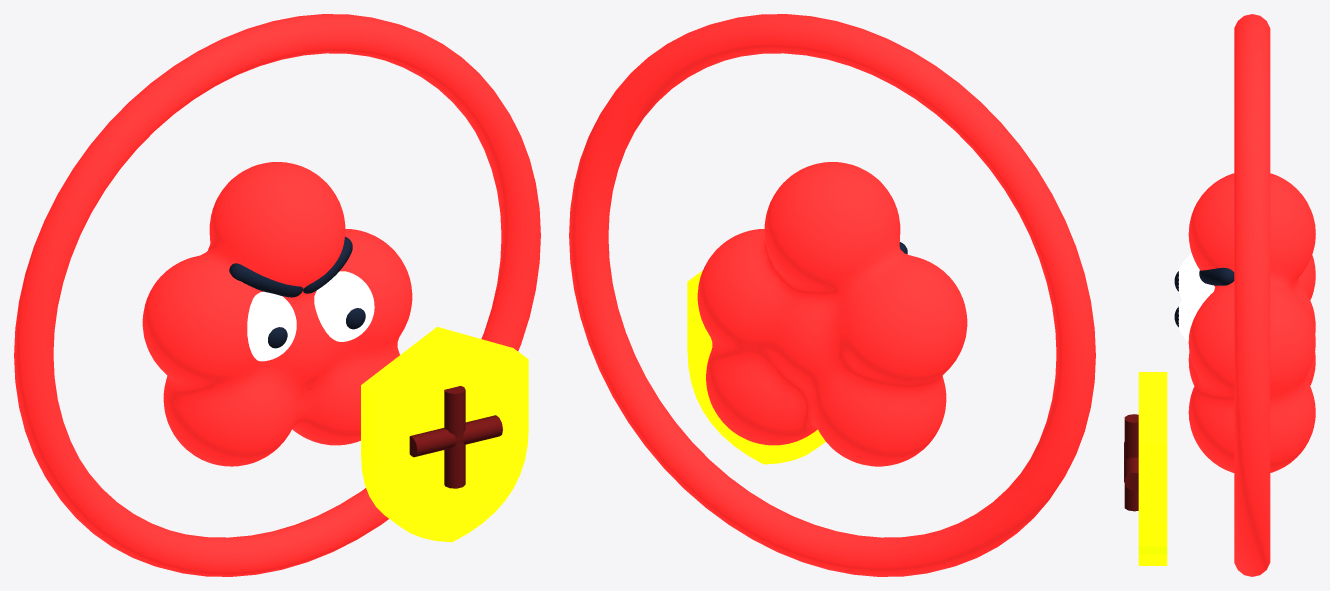
Rendered from mrsa.glb.
3 views of the same model, side by side, from view 1: azimuth 30°, elevation 25°; view 2: azimuth 150°, elevation 25°; view 3: azimuth 270°, elevation 25° (orthographic). The views are drawn at different scales.
Visible parts, largest first — view 1: Resistenzring, mKokken, Schild, mAugeR, mAugeL, SchildKreuz, SchildKreuz2, mBraueR, mBraueL; view 2: Resistenzring, mKokken, Schild; view 3: mKokken, Resistenzring, Schild, SchildKreuz, mAugeR, mAugeL, mBraueL, SchildKreuz2.
Part boxes in pixels (x1,y1,x2,y2): Resistenzring: (14, 14, 540, 576); mKokken: (142, 162, 412, 466); Schild: (361, 327, 528, 542); mAugeR: (314, 271, 374, 341); mAugeL: (247, 291, 296, 361); SchildKreuz: (444, 386, 465, 488); SchildKreuz2: (409, 415, 502, 457); mBraueR: (229, 263, 303, 297); mBraueL: (303, 236, 352, 293); Resistenzring: (569, 14, 1095, 576); mKokken: (697, 162, 967, 466); Schild: (687, 270, 825, 464); mKokken: (1188, 173, 1315, 472); Resistenzring: (1234, 14, 1270, 576); Schild: (1138, 372, 1167, 565); SchildKreuz: (1124, 414, 1138, 511); mAugeR: (1178, 283, 1214, 341); mAugeL: (1178, 253, 1204, 298); mBraueL: (1199, 267, 1234, 285); SchildKreuz2: (1124, 442, 1138, 490).
Size of the model in its own units: 2.74 by 2.74 by 0.9321.
